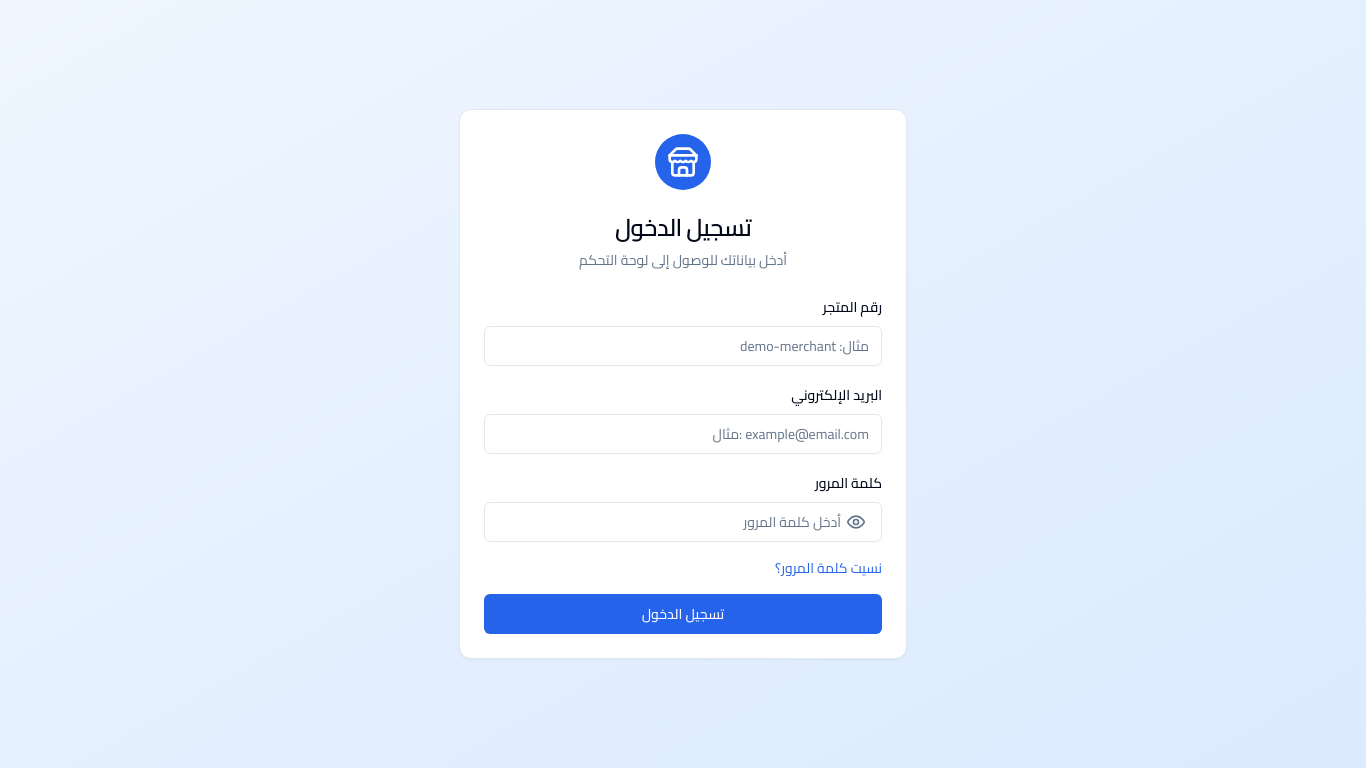
Test case: Login page › shows loading indicator while authenticating
The image size is (1366, 768).
Type "demo-merchant" into the field labelled "رقم المتجر".
click(683, 346); type("demo-merchant")  # box x1=484 y1=326 x2=882 y2=366
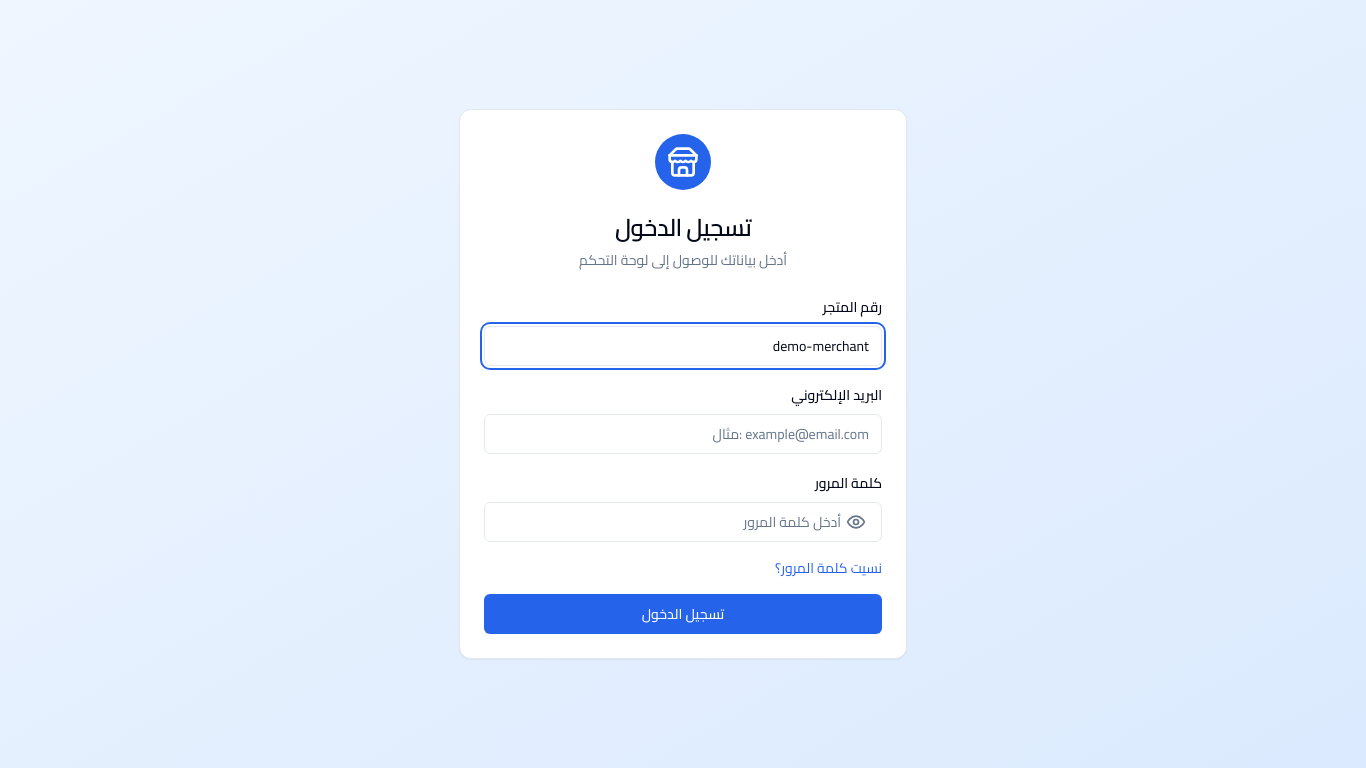
Type "staff@test.com" into the field labelled "البريد الإلكتروني".
click(683, 434); type("staff@test.com")  # box x1=484 y1=414 x2=882 y2=454
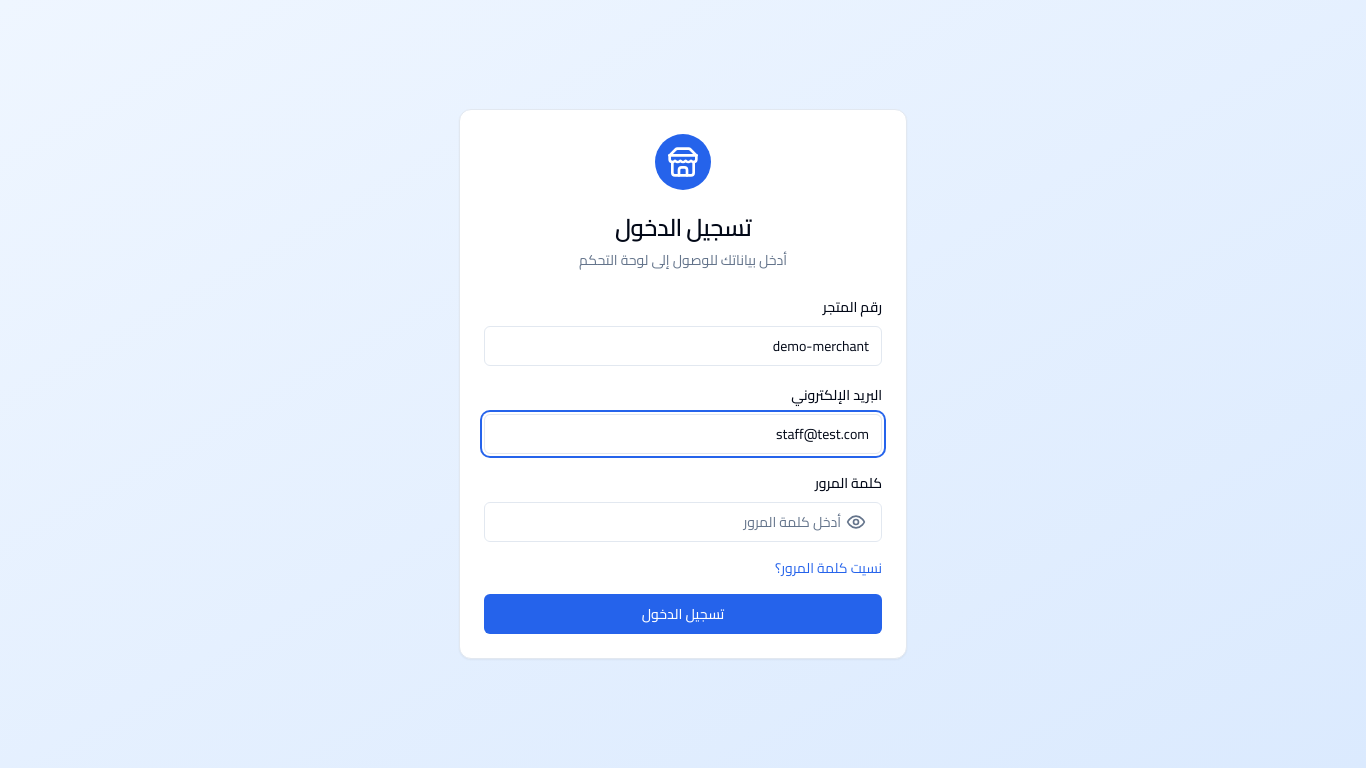
Type "any-password" into the password field labelled "كلمة المرور".
click(683, 522); type("any-password")  # box x1=484 y1=502 x2=882 y2=542
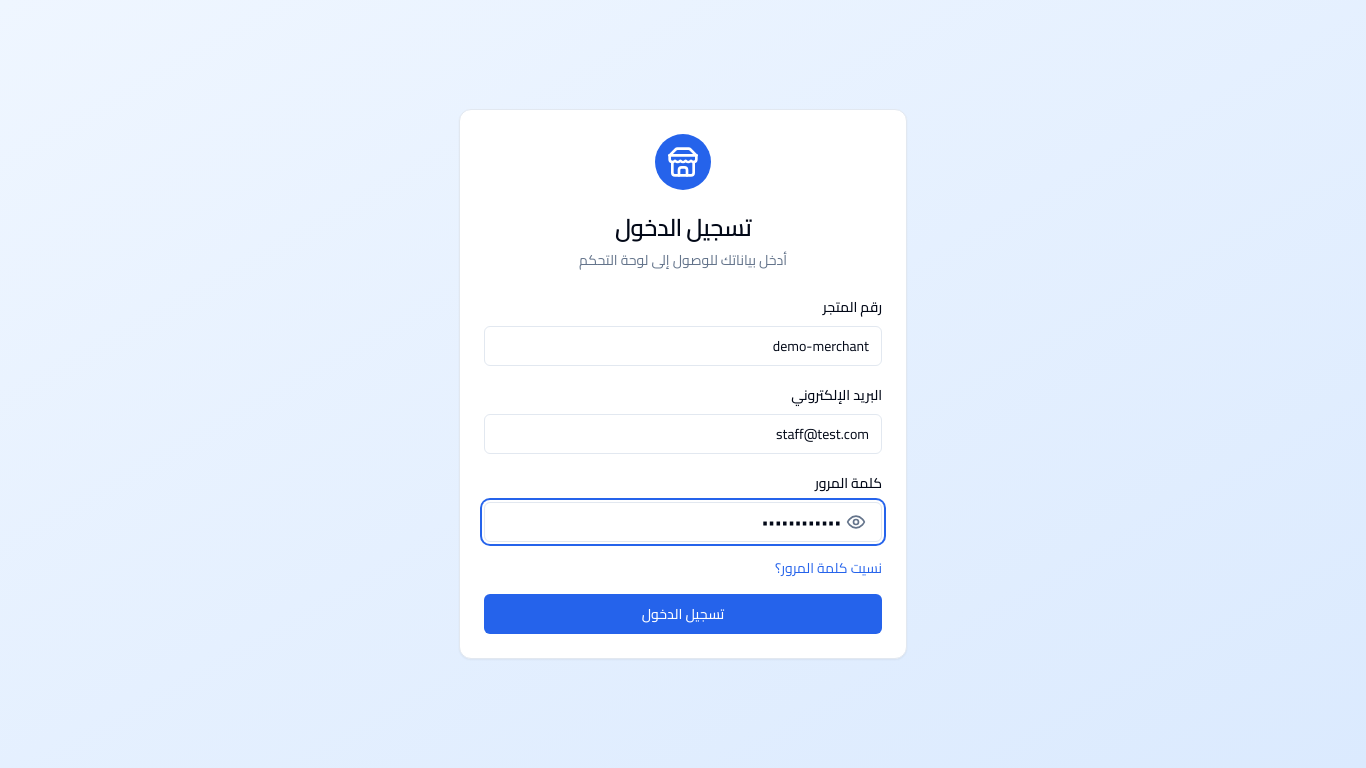
Click the button "تسجيل الدخول".
click(683, 614)  # box x1=484 y1=594 x2=882 y2=634
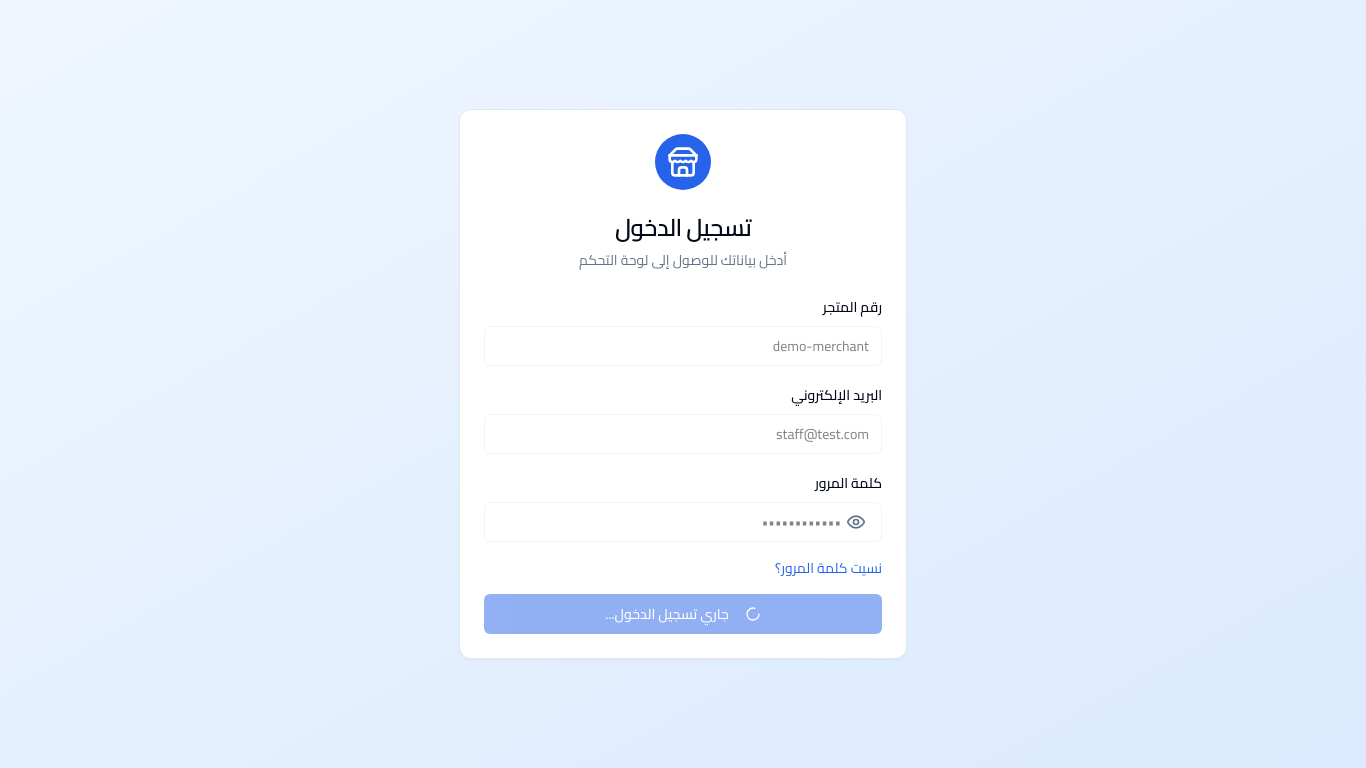
Now the button "جاري تسجيل الدخول..." is disabled, box x1=484 y1=594 x2=882 y2=634
